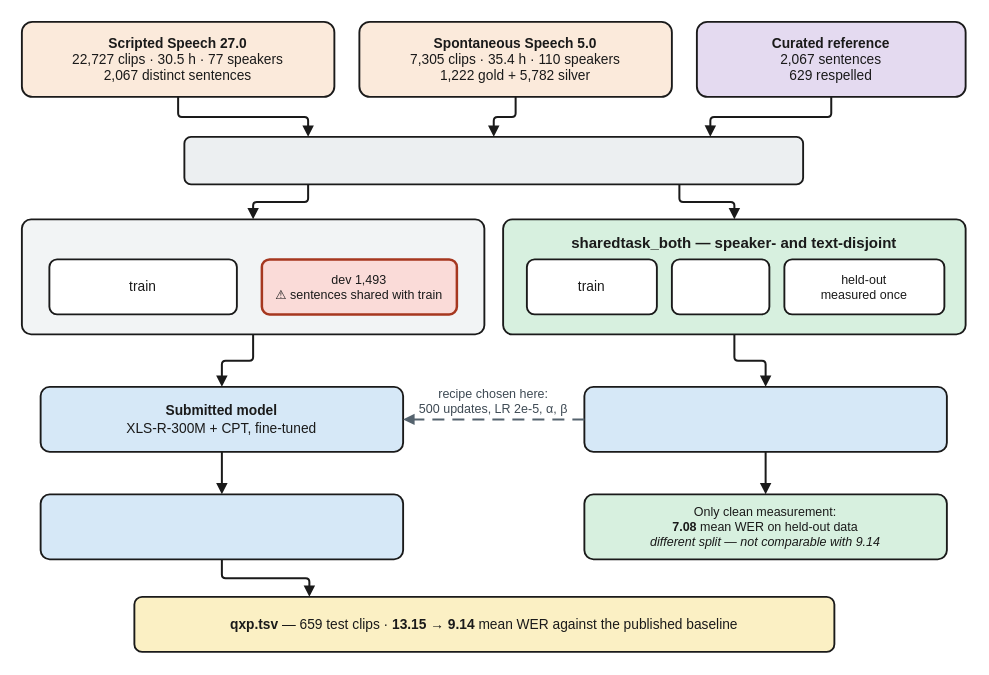
Some shapes in this 989 by 675 pixel diagram are drawn without their labels. The box of each missing label's shape, as (x1, y1, x2, y2) in pixels:
Decoding · scripted: greedy spontaneous: character 8-gram LM, beam 64: (39, 493, 404, 560)
dev 339: (670, 258, 770, 315)
Normalisation to the curated convention · a–z, ñ, apostrophe · 29 symbols: (183, 135, 804, 185)
sharedtask — speaker-disjoint: (20, 218, 485, 335)
Sibling model same recipe, text-disjoint training: (583, 385, 947, 452)
